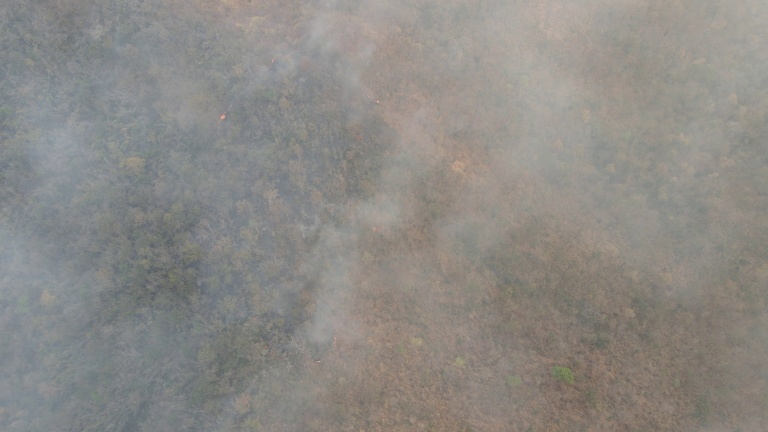fire: (254, 49, 299, 79), (215, 102, 234, 131)
smoke: (1, 1, 230, 427), (483, 1, 768, 251), (287, 98, 475, 359), (281, 2, 472, 90)
